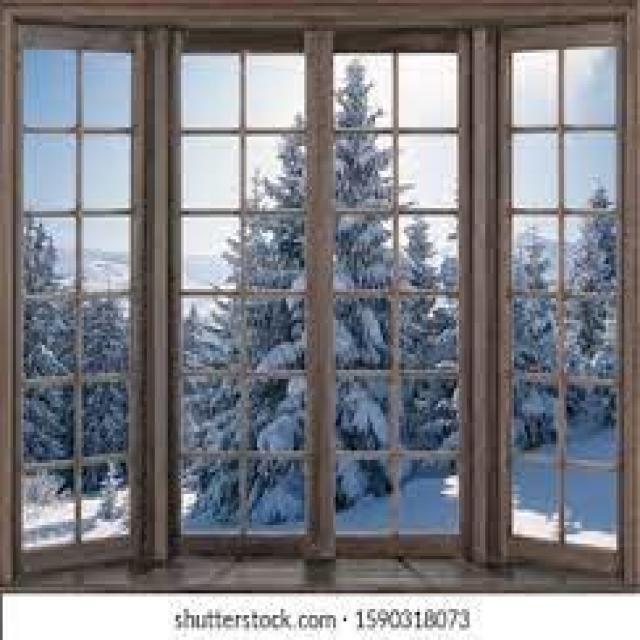Window: (14, 12, 640, 583)
